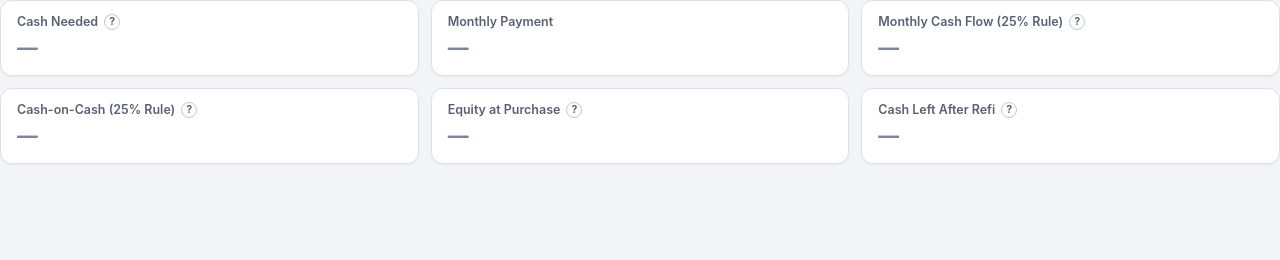
KeyMetrics › explains a term from its "?" tip, and closes with Escape
Click the button named "What is cash-on-cash return?": {"x": 189, "y": 110} top-left (181, 102), bottom-right (197, 118)
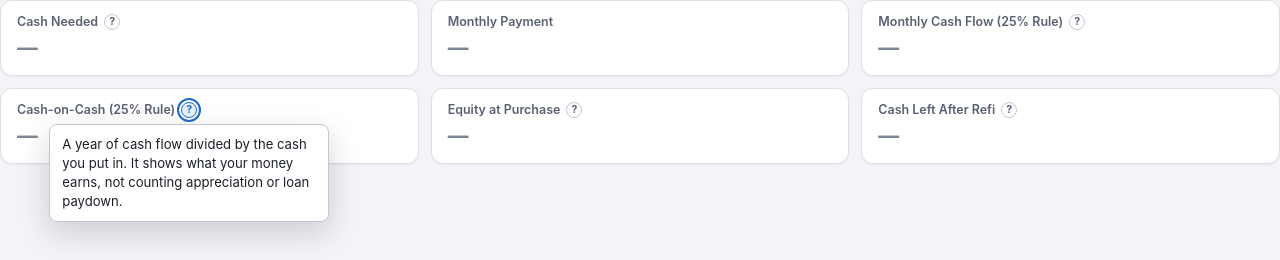
Expected: the button named "What is cash-on-cash return?" is expanded, top-left (181, 102), bottom-right (197, 118)
Press Escape
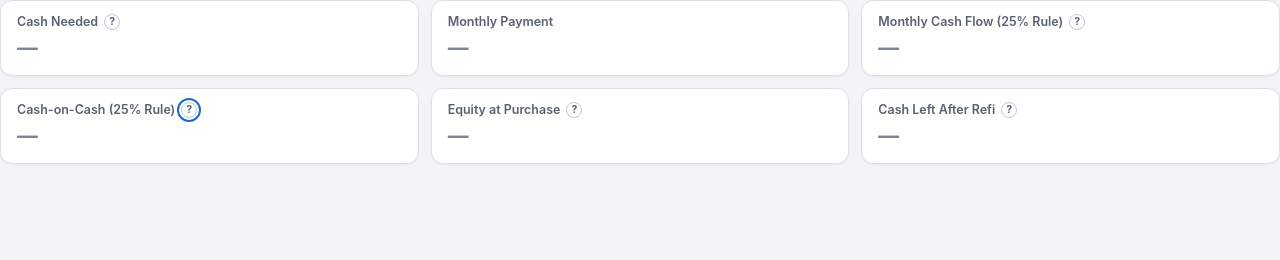
Expected: the button named "What is cash-on-cash return?" is collapsed, top-left (181, 102), bottom-right (197, 118)
Expected: the text "divided by the cash you put in" is gone
